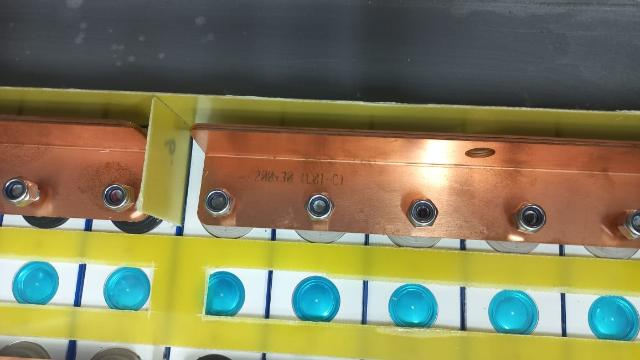busbar: (179, 115, 640, 262), (1, 115, 155, 224)
